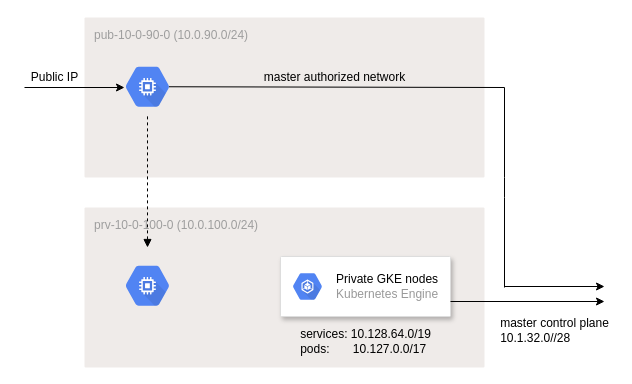
This 632x384 diagram has some shape labels left out. The shapes that lost their labels are listed below. From the top down, each one's centre as x and y in pixels, then its label:
At (147,86): "Bastion/ Jumpbox".
At (147,285): "Private Jumpbox".
